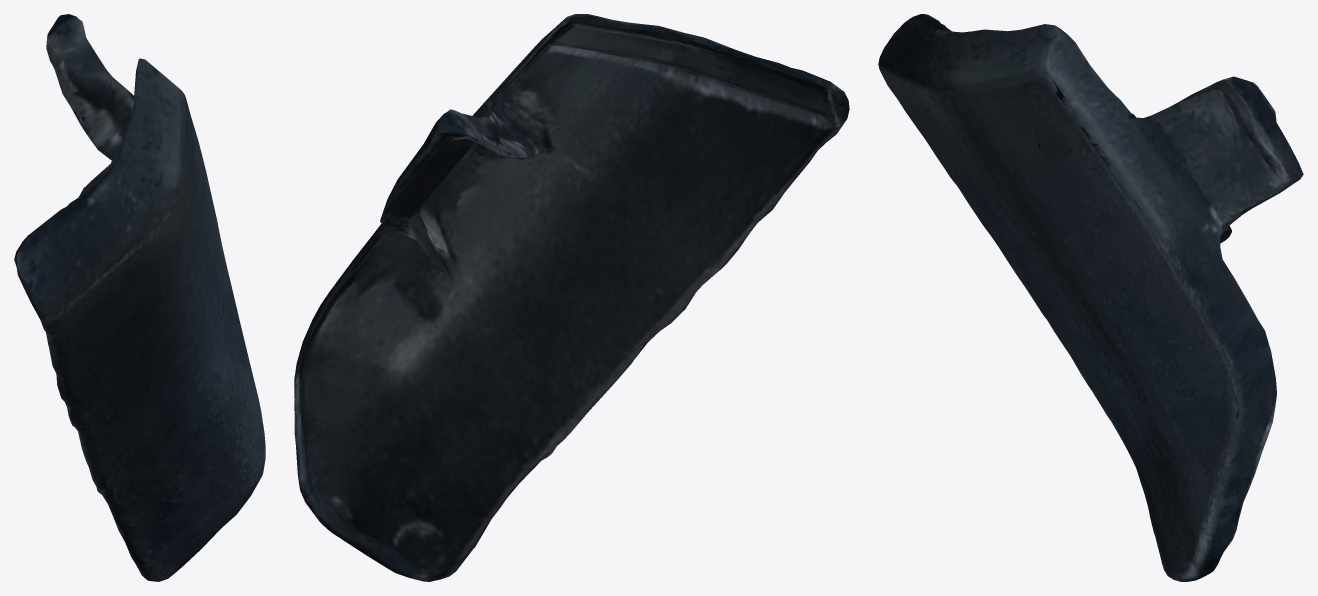
Rendered from SPD-89101X-B.obj.
3 views of the same model, side by side, from view 1: azimuth 30°, elevation 25°; view 2: azimuth 150°, elevation 25°; view 3: azimuth 270°, elevation 25° (orthographic). The views are drawn at different scales.
Parts seen in each view (by area): view 1: SPD-89101X-B; view 2: SPD-89101X-B; view 3: SPD-89101X-B.
Part boxes in pixels (left/top/right/bottom): SPD-89101X-B: left=14, top=14, right=265, bottom=581; SPD-89101X-B: left=294, top=14, right=849, bottom=581; SPD-89101X-B: left=878, top=14, right=1303, bottom=581.
Size of the model in its own units: 70.48 by 95.15 by 71.5.
1 material, 1 textured.
